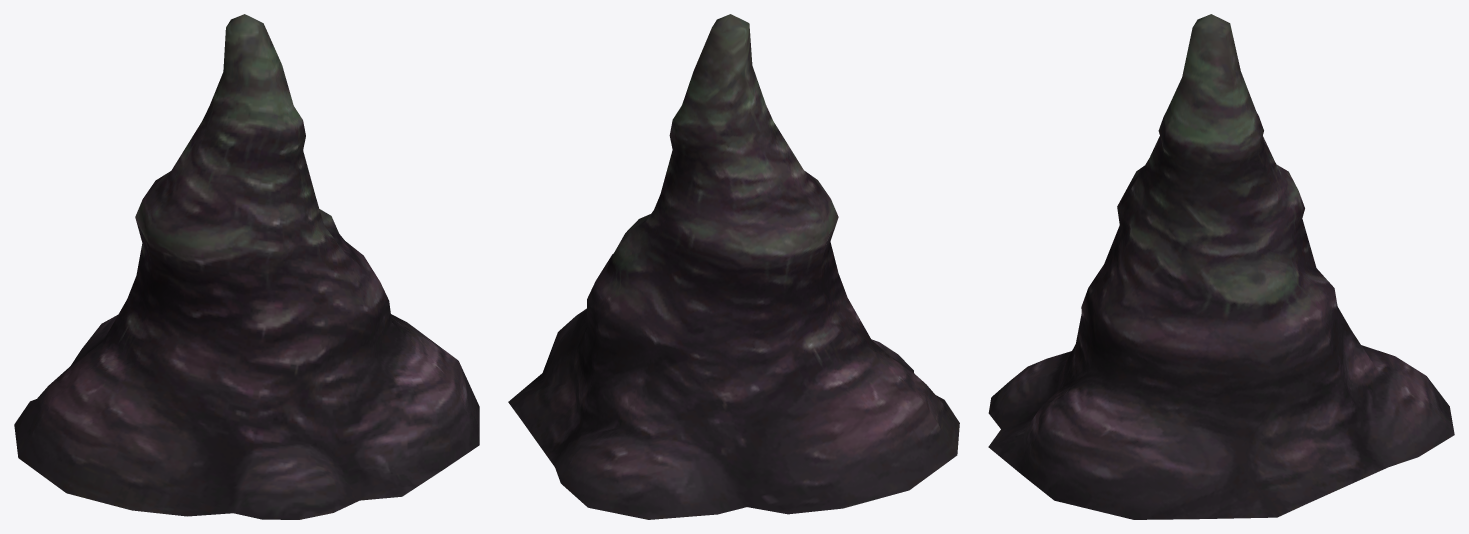
The model's file is cave_stalagmite_02.fbx.
3 renders of one model, left to right at view 1: azimuth 30°, elevation 25°; view 2: azimuth 150°, elevation 25°; view 3: azimuth 270°, elevation 25°, orthographic.
Visible parts, largest first — view 1: cave_tileset/stalagmite02_mat; view 2: cave_tileset/stalagmite02_mat; view 3: cave_tileset/stalagmite02_mat.
Part boxes in pixels (left/top/right/bottom): cave_tileset/stalagmite02_mat: left=14, top=14, right=479, bottom=519; cave_tileset/stalagmite02_mat: left=508, top=14, right=959, bottom=519; cave_tileset/stalagmite02_mat: left=988, top=14, right=1454, bottom=519.
Size of the model in its own units: 4.26 by 4.2 by 4.32.
